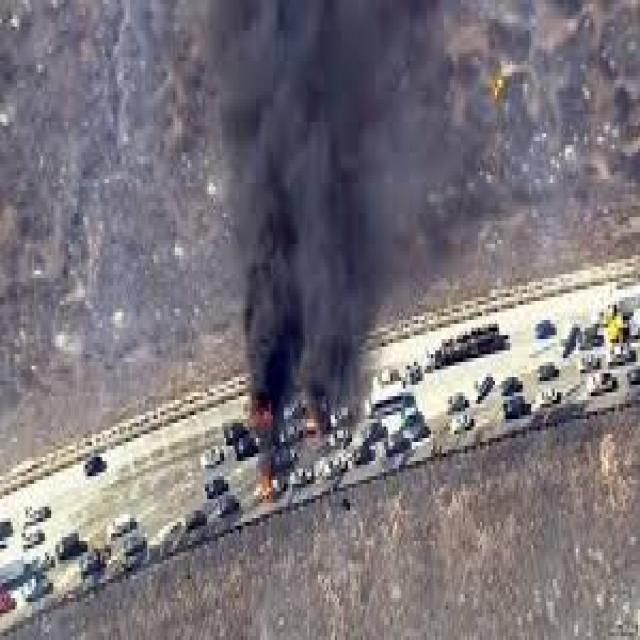fire: (246, 400, 276, 430), (258, 472, 275, 507)
smoke: (203, 4, 482, 434)
